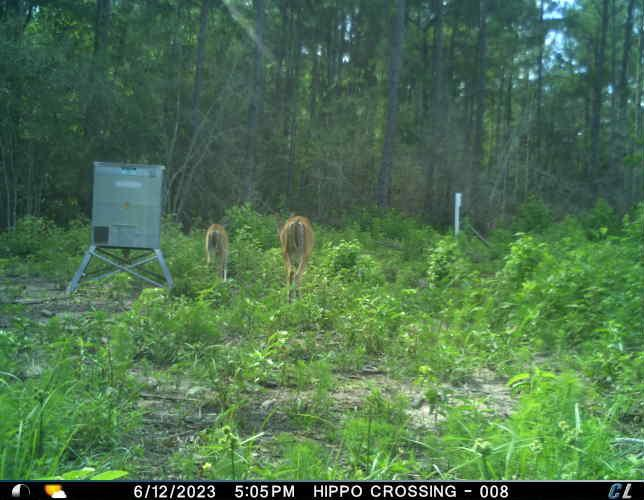Deer: (278, 214, 319, 305), (201, 221, 232, 284)
